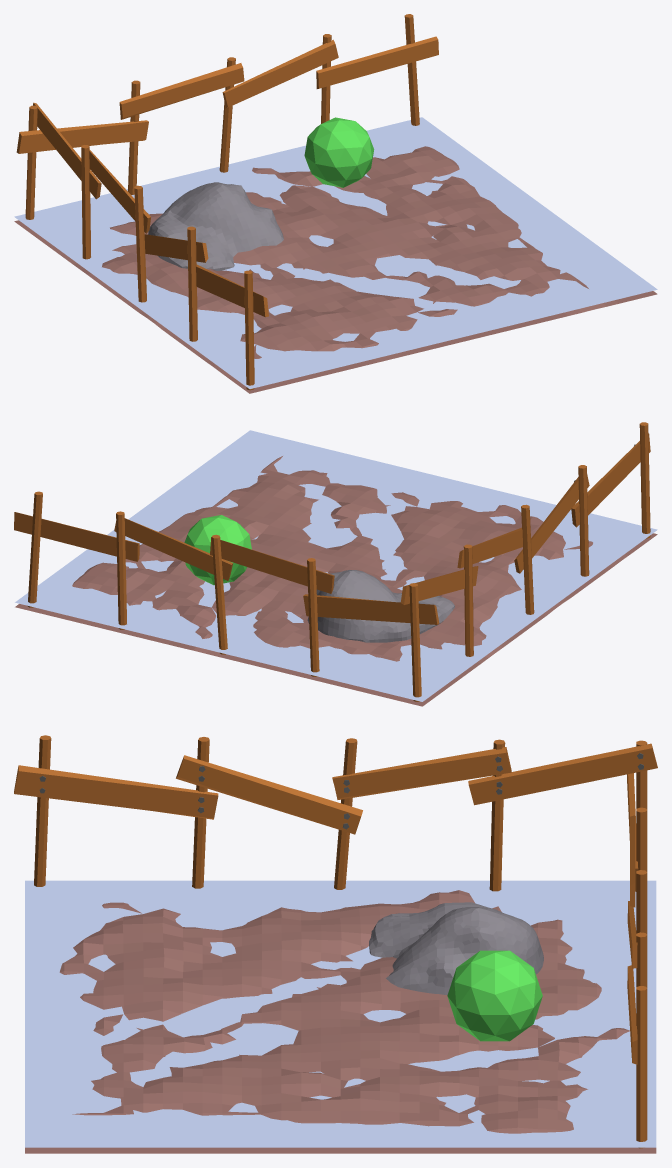
File: Example.fbx
3 renders of one model, top to bottom at view 1: azimuth 30°, elevation 25°; view 2: azimuth 150°, elevation 25°; view 3: azimuth 270°, elevation 25°, orthographic. The views are drawn at different scales.
Parts seen in each view (by area): view 1: mud, water, Back fence, Left fence, Stone, Icosphere.001; view 2: water, mud, Back fence, Left fence, Stone, Icosphere.001; view 3: mud, water, Left fence, Stone, Icosphere.001, Back fence.
Part boxes in pixels (box(x1,y1,x2,y2)): mud: box(14, 146, 657, 393); water: box(14, 117, 657, 388); Back fence: box(16, 14, 438, 219); Left fence: box(33, 102, 268, 390); Stone: box(148, 182, 283, 270); Icosphere.001: box(304, 117, 374, 187); water: box(15, 430, 657, 701); mud: box(15, 456, 657, 706); Back fence: box(14, 491, 439, 701); Left fence: box(400, 422, 650, 656); Stone: box(307, 570, 454, 642); Icosphere.001: box(184, 515, 251, 585); mud: box(25, 890, 656, 1153); water: box(25, 880, 656, 1147); Left fence: box(14, 735, 657, 891); Stone: box(369, 902, 543, 994); Icosphere.001: box(447, 950, 542, 1041); Back fence: box(627, 740, 647, 1148).
Size of the model in its own units: 13.66 by 4.41 by 13.48.
